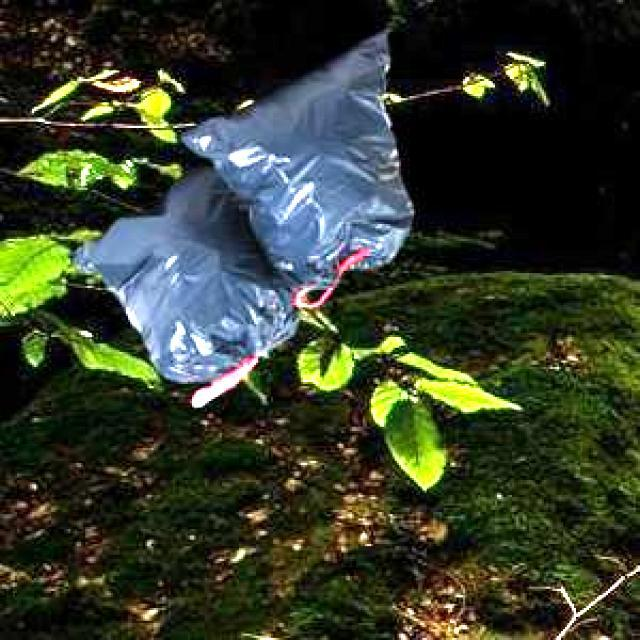Garbage_Bag: (67, 27, 411, 402)
